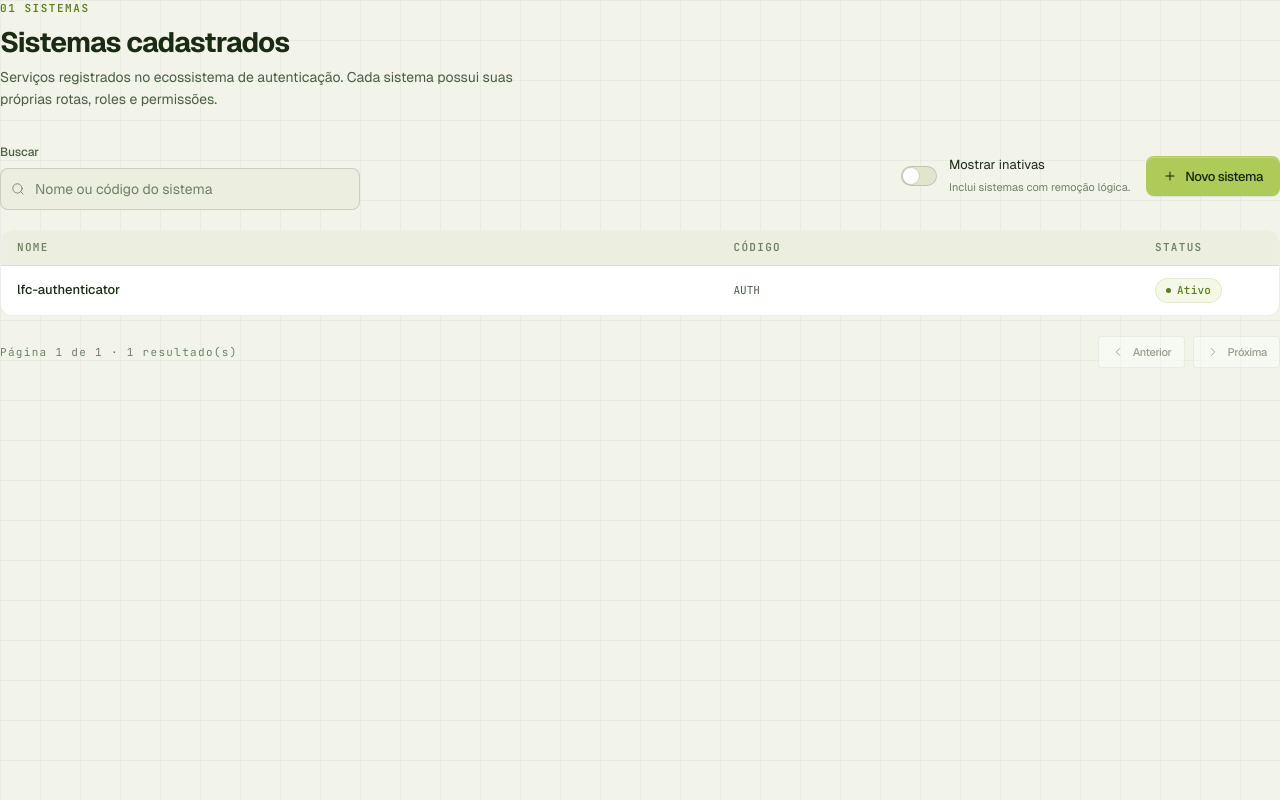
Test: SystemsPage — criação (Issue #58) › abertura e fechamento do modal › clicar em "Novo sistema" abre o diálogo com os campos do form
Click the button with test id "systems-create-open". click: (1213, 176)
box: left=1146, top=156, right=1279, bottom=196
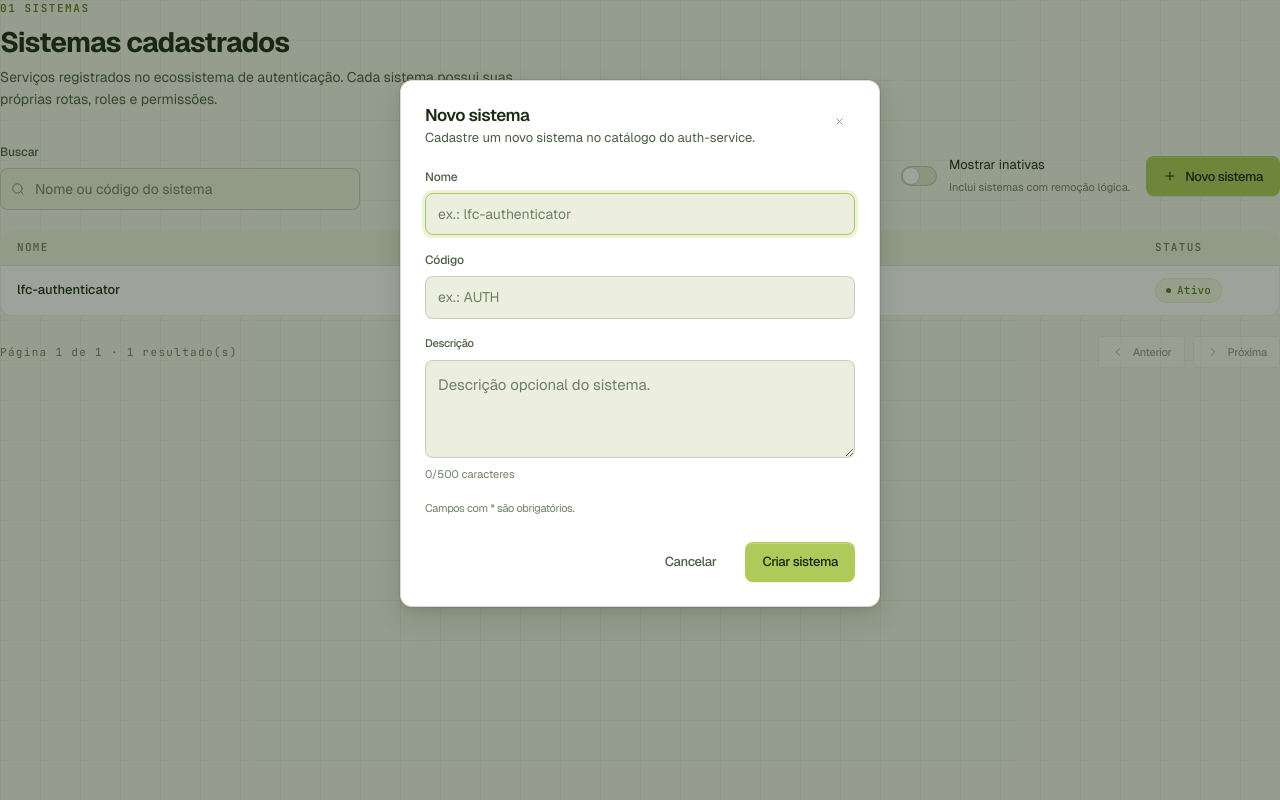
Check: the dialog is shown, box left=400, top=80, right=880, bottom=606
Check: the field with test id "new-system-name" is shown, box left=425, top=193, right=855, bottom=235
Check: the field with test id "new-system-code" is shown, box left=425, top=276, right=855, bottom=319
